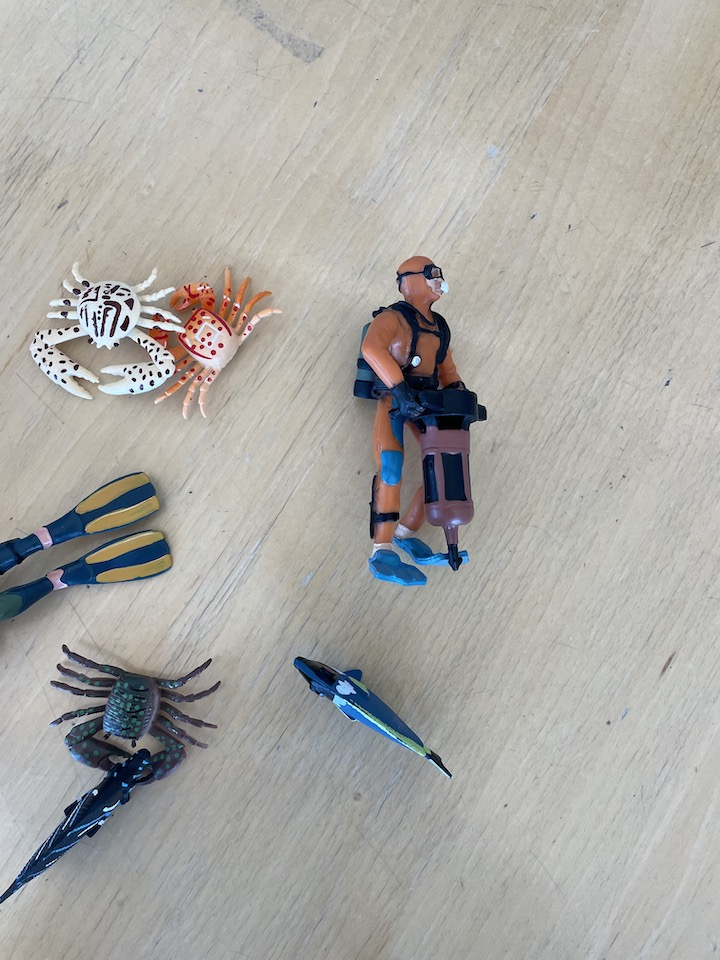crab: (28, 259, 186, 404), (140, 265, 284, 423), (49, 645, 224, 752)
diver: (354, 252, 491, 590), (1, 467, 174, 627)
fish: (1, 744, 155, 901), (290, 651, 459, 783)
